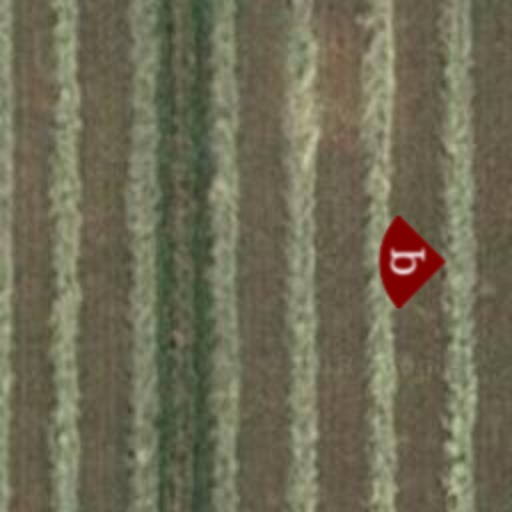quarter_circle: (360, 216, 452, 308)
